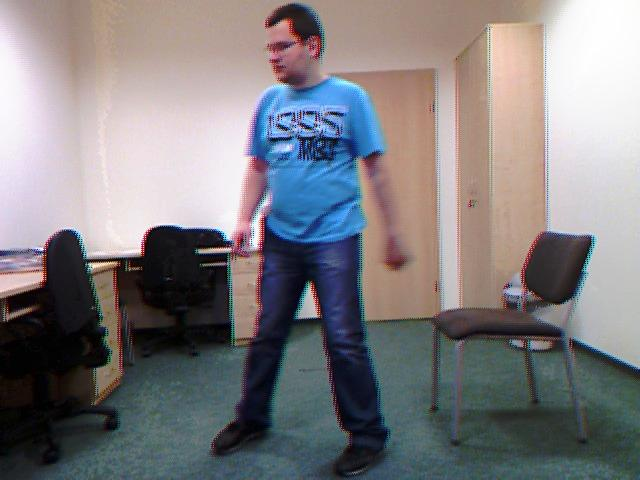walking: (209, 0, 418, 480)
